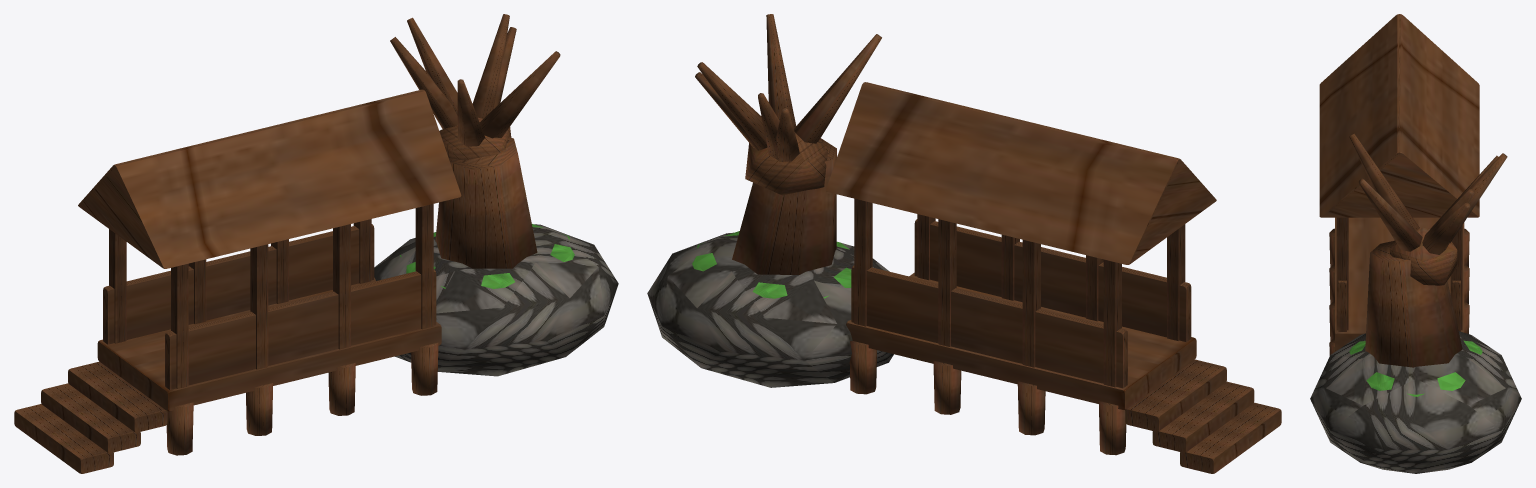
Rendered from env_covered_bridge.glb.
The picture shows the model from 3 angles, left to right: view 1: azimuth 30°, elevation 25°; view 2: azimuth 150°, elevation 25°; view 3: azimuth 270°, elevation 25°; orthographic projection. The views are drawn at different scales.
Visible parts, largest first — view 1: CB_Roof, WW_RockBase, CB_Rail_-0.52, CB_Rail_0.52, CB_Deck, WW_Trunk1, CB_Step_0, CB_Step_2, CB_Step_1, CB_Post_-1.15_-0.52, CB_Post_0.45_-0.52, CB_Post_-1.92_-0.52 (+17 smaller); view 2: CB_Roof, WW_RockBase, CB_Rail_0.52, CB_Rail_-0.52, CB_Deck, WW_Trunk1, CB_Step_0, CB_Step_2, CB_Step_1, WW_Knot, WW_Branch_2, CB_Post_-1.92_0.52 (+16 smaller); view 3: CB_Roof, WW_RockBase, WW_Trunk1, CB_Deck, WW_Knot, WW_Branch_0, WW_Branch_2, WW_MossCap, CB_Post_0.45_-0.52, WW_Branch_4, WW_Branch_3, CB_Post_0.45_0.52 (+3 smaller).
Boxes of the visible parts, left/top/right/bottom form: CB_Roof: left=78, top=89, right=461, bottom=268; WW_RockBase: left=374, top=224, right=618, bottom=376; CB_Rail_-0.52: left=165, top=269, right=436, bottom=389; CB_Rail_0.52: left=103, top=224, right=374, bottom=344; CB_Deck: left=97, top=277, right=441, bottom=411; WW_Trunk1: left=435, top=136, right=537, bottom=268; CB_Step_0: left=68, top=361, right=167, bottom=432; CB_Step_2: left=14, top=404, right=113, bottom=473; CB_Step_1: left=41, top=383, right=140, bottom=453; CB_Post_-1.15_-0.52: left=250, top=244, right=268, bottom=369; CB_Post_0.45_-0.52: left=415, top=204, right=433, bottom=329; CB_Post_-1.92_-0.52: left=171, top=263, right=188, bottom=388; CB_Roof: left=826, top=82, right=1216, bottom=264; WW_RockBase: left=647, top=232, right=893, bottom=387; CB_Rail_0.52: left=851, top=265, right=1127, bottom=388; CB_Rail_-0.52: left=914, top=219, right=1191, bottom=341; CB_Deck: left=846, top=272, right=1196, bottom=409; WW_Trunk1: left=732, top=138, right=836, bottom=274; CB_Step_0: left=1125, top=359, right=1226, bottom=431; CB_Step_2: left=1180, top=402, right=1281, bottom=473; CB_Step_1: left=1152, top=381, right=1254, bottom=452; WW_Knot: left=745, top=132, right=828, bottom=195; WW_Branch_2: left=794, top=34, right=881, bottom=143; CB_Post_-1.92_0.52: left=1103, top=259, right=1121, bottom=387; CB_Roof: left=1319, top=14, right=1479, bottom=217; WW_RockBase: left=1310, top=331, right=1521, bottom=473; WW_Trunk1: left=1365, top=240, right=1462, bottom=367; CB_Deck: left=1335, top=217, right=1464, bottom=350; WW_Knot: left=1390, top=227, right=1457, bottom=285; WW_Branch_0: left=1358, top=178, right=1422, bottom=251; WW_Branch_2: left=1349, top=133, right=1419, bottom=230; WW_MossCap: left=1349, top=340, right=1482, bottom=396; CB_Post_0.45_-0.52: left=1336, top=217, right=1348, bottom=330; WW_Branch_4: left=1422, top=202, right=1470, bottom=254; WW_Branch_3: left=1430, top=153, right=1507, bottom=242; CB_Post_0.45_0.52: left=1450, top=225, right=1462, bottom=330.
Size of the model in its own units: 5.44 by 2.96 by 1.93.
Materials: 3 (3 with a texture image).
